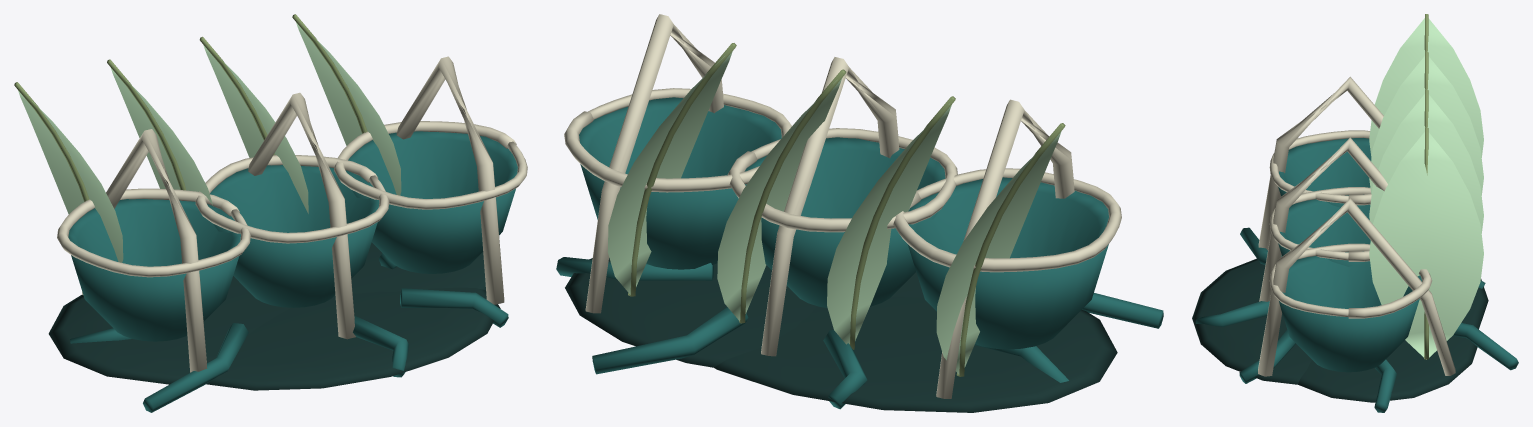
The model's file is building_living_goods_store_a.obj.
3 renders of one model, left to right at view 1: azimuth 30°, elevation 25°; view 2: azimuth 150°, elevation 25°; view 3: azimuth 270°, elevation 25°, orthographic. The views are drawn at different scales.
Visible parts, largest first — view 1: irregular_anchoring_lobe.026, open_living_cup.021, open_living_cup.023, open_living_cup.022, irregular_anchoring_lobe.024, arched_storage_rib.005, arched_storage_rib.004, arched_storage_rib.003, grown_cup_lip.021, grown_cup_lip.023, grown_cup_lip.022, bent_living_blade.027 (+12 smaller); view 2: irregular_anchoring_lobe.024, open_living_cup.021, open_living_cup.023, irregular_anchoring_lobe.025, open_living_cup.022, bent_living_blade.025, bent_living_blade.027, bent_living_blade.026, bent_living_blade.024, arched_storage_rib.004, arched_storage_rib.005, grown_cup_lip.021 (+12 smaller); view 3: bent_living_blade.027, open_living_cup.023, irregular_anchoring_lobe.026, irregular_anchoring_lobe.025, arched_storage_rib.005, bent_living_blade.025, bent_living_blade.024, bent_living_blade.026, open_living_cup.021, open_living_cup.022, arched_storage_rib.003, arched_storage_rib.004 (+10 smaller).
Boxes of the visible parts, x1,y1,x2,y2 form: irregular_anchoring_lobe.026: [206, 287, 500, 390]; open_living_cup.021: [68, 199, 240, 341]; open_living_cup.023: [346, 131, 517, 273]; open_living_cup.022: [208, 165, 379, 307]; irregular_anchoring_lobe.024: [48, 276, 290, 384]; arched_storage_rib.005: [396, 56, 504, 304]; arched_storage_rib.004: [248, 92, 355, 339]; arched_storage_rib.003: [82, 129, 207, 372]; grown_cup_lip.021: [57, 188, 250, 277]; grown_cup_lip.023: [334, 121, 527, 209]; grown_cup_lip.022: [195, 155, 389, 243]; bent_living_blade.027: [296, 22, 401, 195]; irregular_anchoring_lobe.024: [714, 296, 1117, 412]; open_living_cup.021: [907, 177, 1108, 349]; open_living_cup.023: [579, 97, 781, 269]; irregular_anchoring_lobe.025: [565, 258, 816, 367]; open_living_cup.022: [744, 137, 945, 307]; bent_living_blade.025: [827, 104, 951, 344]; bent_living_blade.027: [607, 51, 732, 294]; bent_living_blade.026: [717, 78, 842, 321]; bent_living_blade.024: [936, 132, 1060, 374]; arched_storage_rib.004: [761, 57, 899, 356]; arched_storage_rib.005: [585, 14, 723, 313]; grown_cup_lip.021: [893, 168, 1121, 272]; bent_living_blade.027: [1369, 132, 1483, 359]; open_living_cup.023: [1279, 251, 1422, 372]; irregular_anchoring_lobe.026: [1192, 258, 1311, 384]; irregular_anchoring_lobe.025: [1298, 322, 1477, 402]; arched_storage_rib.005: [1258, 198, 1455, 376]; bent_living_blade.025: [1369, 56, 1483, 195]; bent_living_blade.024: [1369, 18, 1483, 157]; bent_living_blade.026: [1369, 94, 1483, 233]; open_living_cup.021: [1278, 138, 1371, 207]; open_living_cup.022: [1278, 194, 1370, 266]; arched_storage_rib.003: [1258, 76, 1383, 250]; arched_storage_rib.004: [1259, 137, 1387, 301].
Size of the model in its own units: 3.69 by 2.01 by 2.73.
